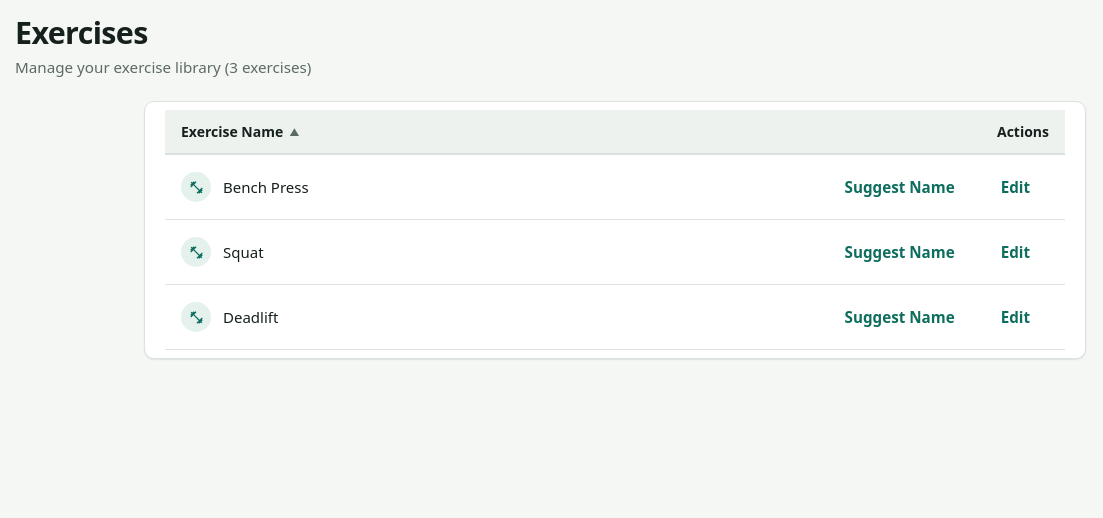
Test: ExerciseListPage - Table Layout › Edit Functionality › closes suggestions dropdown when close button is clicked
The width and height of the screenshot is (1103, 518).
Expected: the text "Bench Press" is shown, [181,172,309,202]
Click the button named "suggest name for bench press".
click(900, 187)  # box [826,167,974,207]
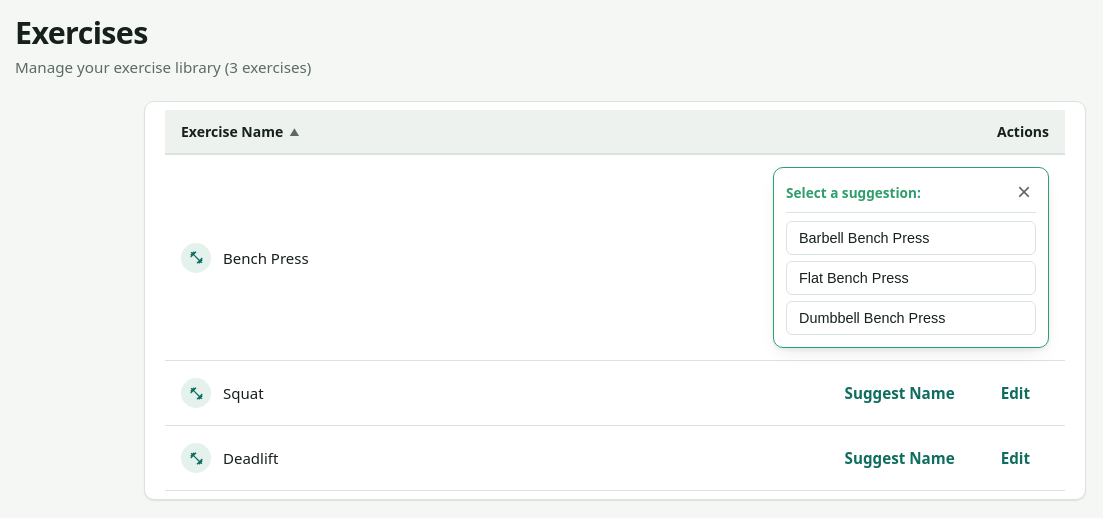
Result: the text "Select a suggestion:" is shown at [786,182,921,202]
Note: Click the close button
Click the button named "close suggestions".
click(1024, 192)  # box [1012,180,1036,204]
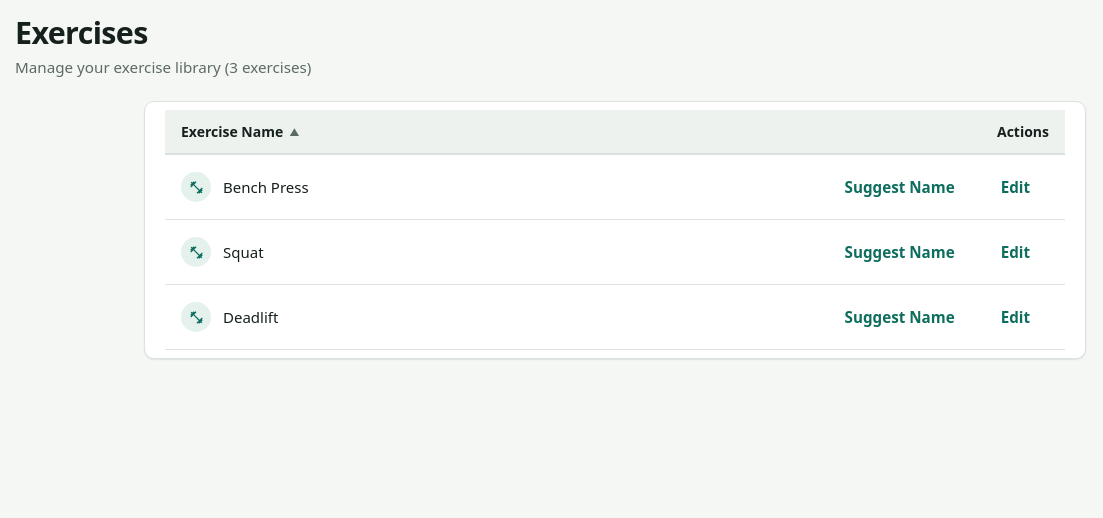
Result: the text "Select a suggestion:" is gone
